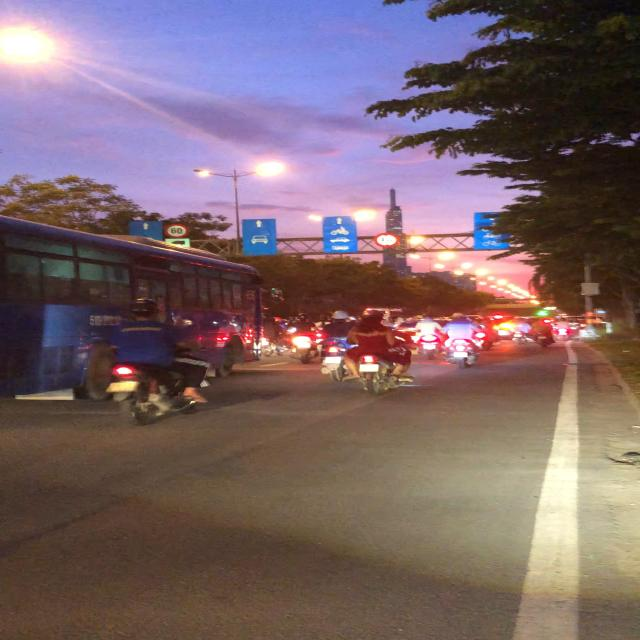Bien bao toc do toi da cho phep: (161, 223, 195, 238)
